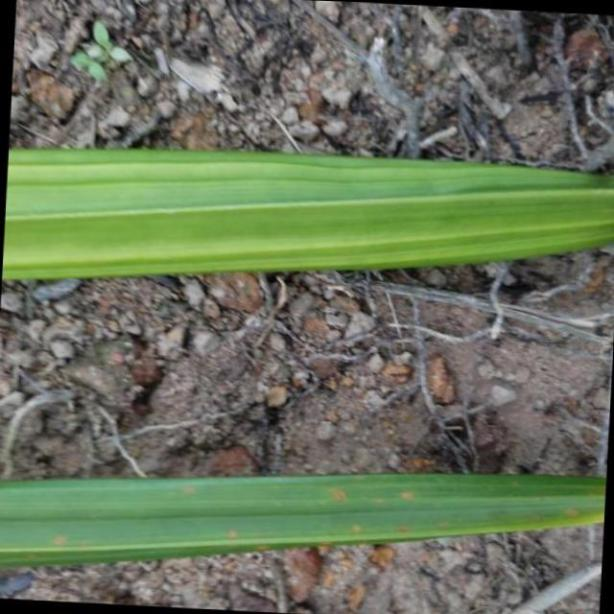nitrogen: (0, 150, 614, 285)
